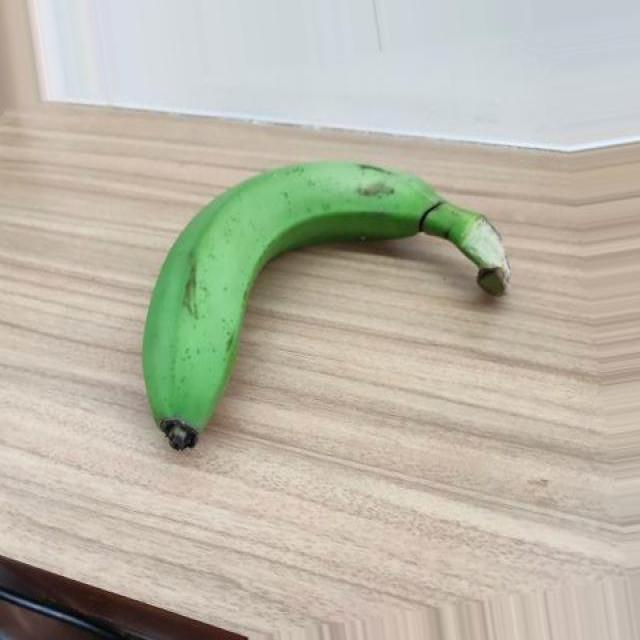Unripe: (141, 158, 511, 452)
